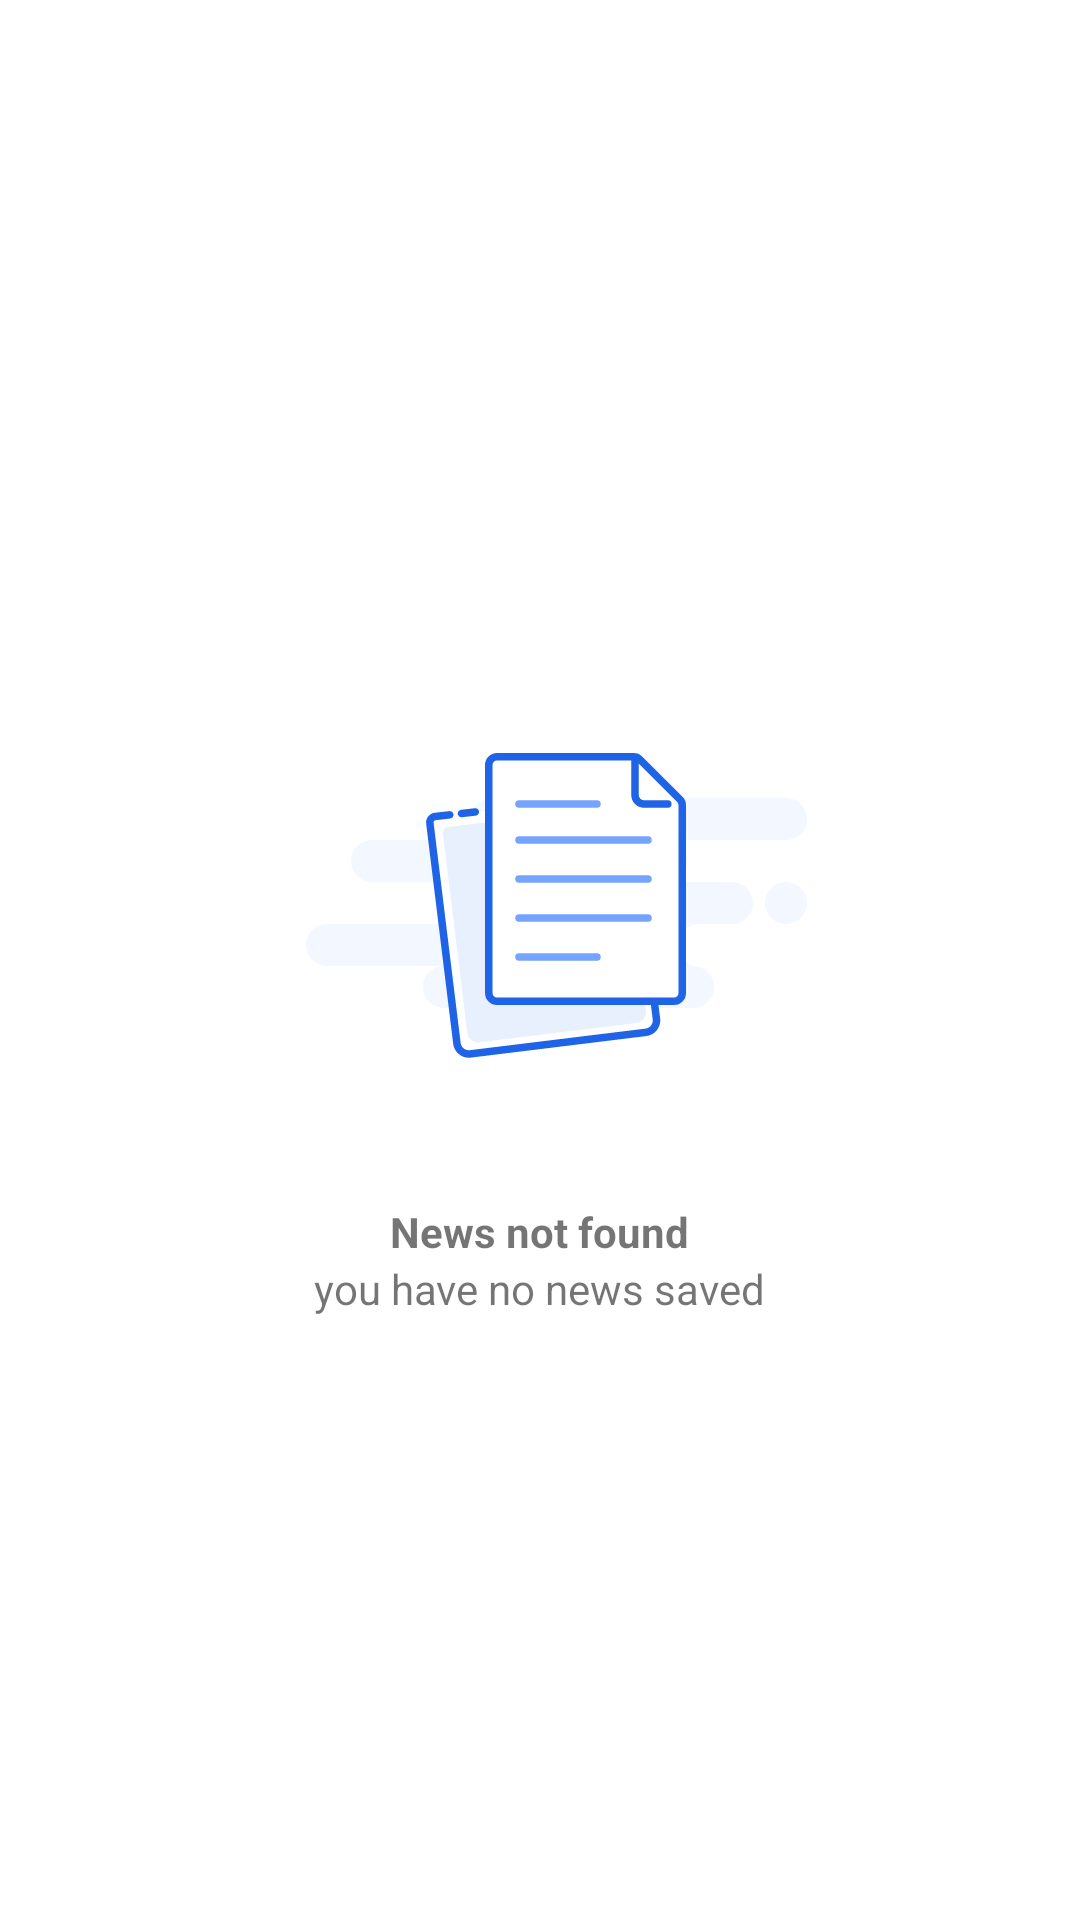

Named icons in this screenshot (1080x1920) and their bounding boxes, [x1=x1, y1=y1, x2=x2, y2=y2]:
empty: [x1=426, y1=753, x2=686, y2=1058]
